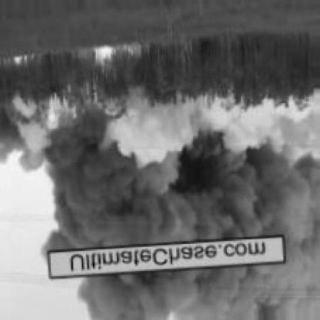Fire: (40, 83, 106, 139), (78, 34, 152, 76)
Smoke: (46, 124, 312, 314)
